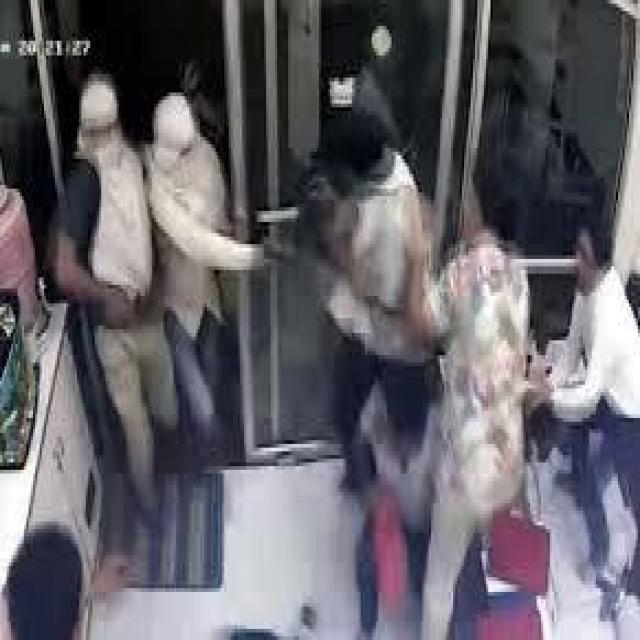weapon: (118, 285, 158, 333), (258, 232, 304, 266)
